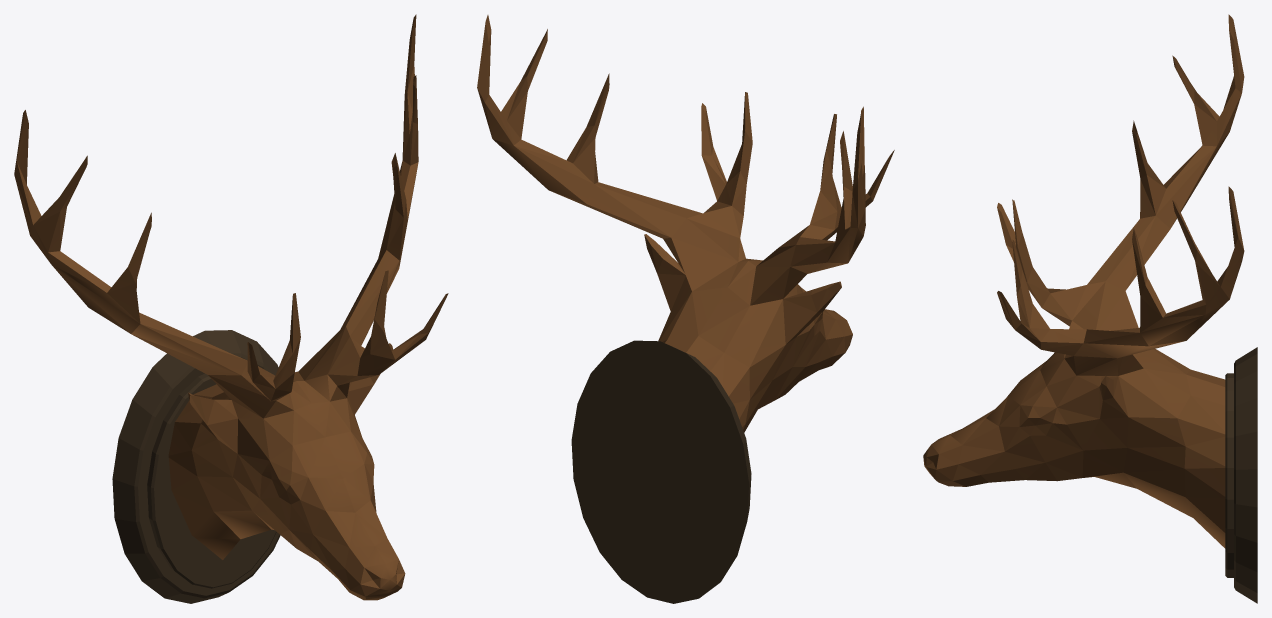
The model's file is Deer_decoration.fbx.
3 views of the same model, side by side, from view 1: azimuth 30°, elevation 25°; view 2: azimuth 150°, elevation 25°; view 3: azimuth 270°, elevation 25° (orthographic). The views are drawn at different scales.
Parts seen in each view (by area): view 1: Deer_decoration; view 2: Deer_decoration; view 3: Deer_decoration.
Part boxes in pixels (x1,y1,x2,y2): Deer_decoration: [14, 14, 448, 603]; Deer_decoration: [477, 15, 894, 603]; Deer_decoration: [923, 14, 1257, 603].
Size of the model in its own units: 64.27 by 85.09 by 51.91.
